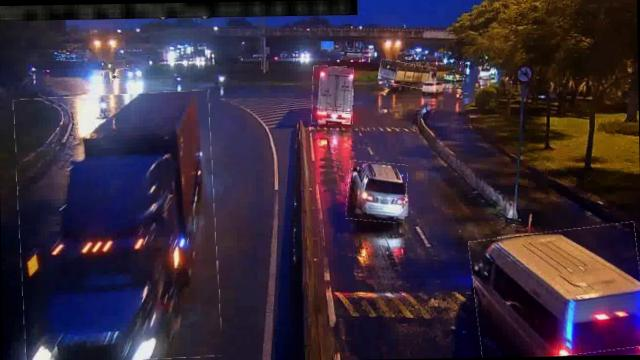Bus: (471, 225, 640, 357)
Car: (346, 160, 408, 222), (423, 81, 448, 91)
Truck: (15, 91, 220, 360), (312, 66, 354, 124), (378, 60, 438, 88)
